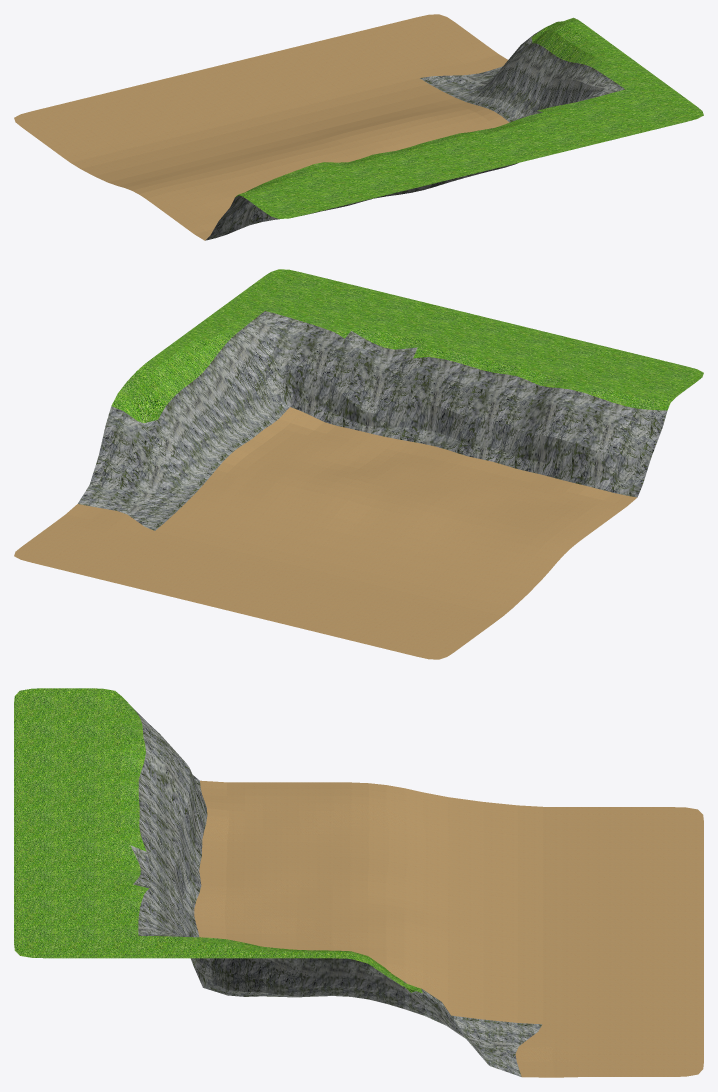
Rendered from beach3.fbx.
The picture shows the model from 3 angles, top to bottom: view 1: azimuth 30°, elevation 25°; view 2: azimuth 150°, elevation 25°; view 3: azimuth 270°, elevation 25°; orthographic projection. The views are drawn at different scales.
Parts seen in each view (by area): view 1: beach, highs, cliff; view 2: beach, cliff, highs; view 3: beach, highs, cliff.
Boxes of the visible parts, x1,y1,x2,y2 form: beach: [14, 14, 509, 240]; highs: [235, 17, 703, 218]; cliff: [205, 28, 625, 240]; beach: [14, 407, 636, 659]; cliff: [78, 311, 667, 530]; highs: [111, 269, 703, 422]; beach: [194, 780, 703, 1077]; highs: [14, 688, 422, 993]; cliff: [130, 707, 542, 1076].
Bounding box in the file's own units: 102 × 20.6 × 108.
